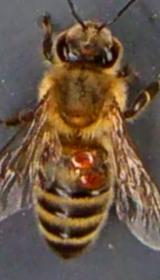varroa_mite: (70, 140, 100, 174), (73, 171, 117, 192)
